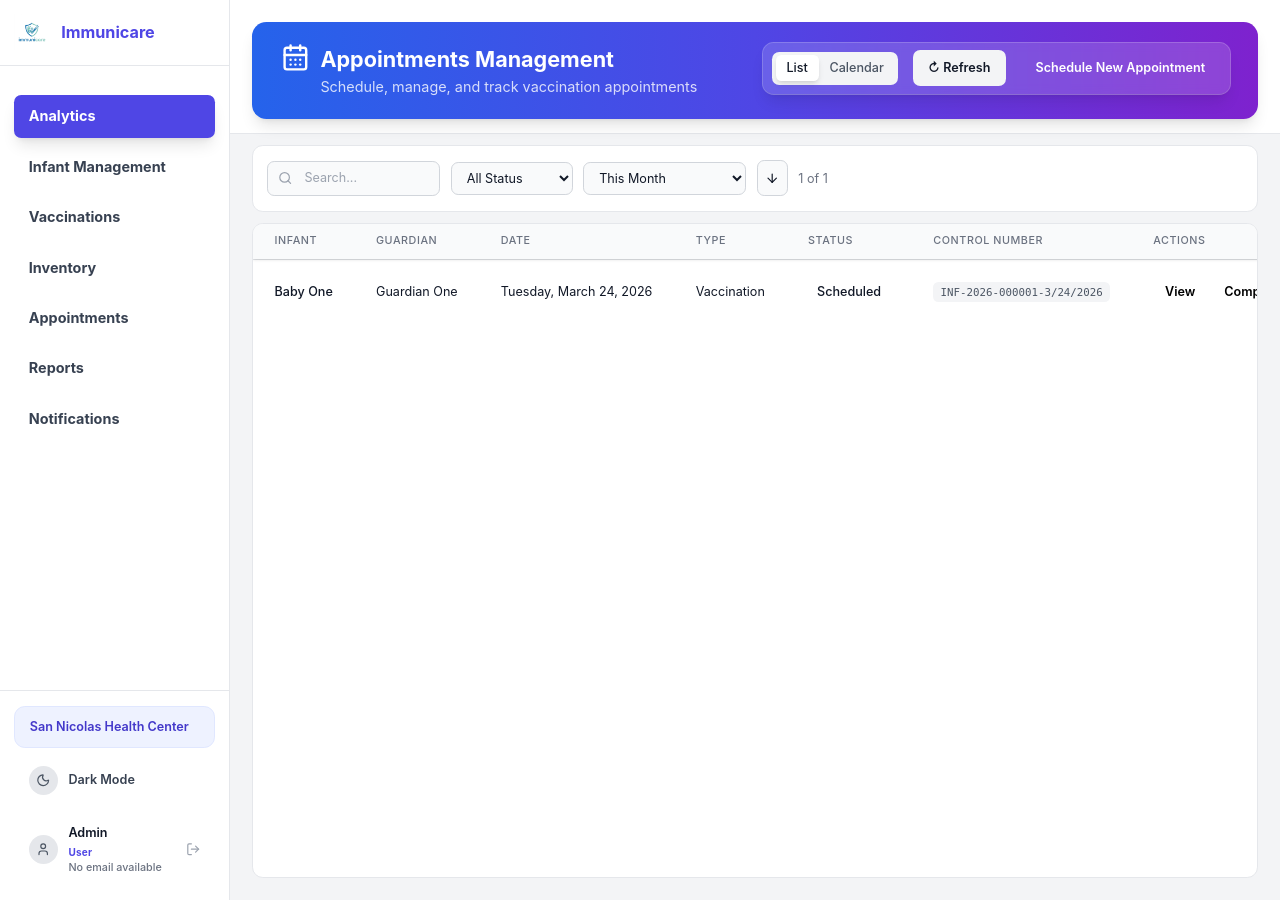
Scenario: admin appointments calendar scroll layout › calendar view uses an internal scroll region instead of locking the full page height
Click the button "Calendar" at x=857, y=68, box [819,55,895,81]
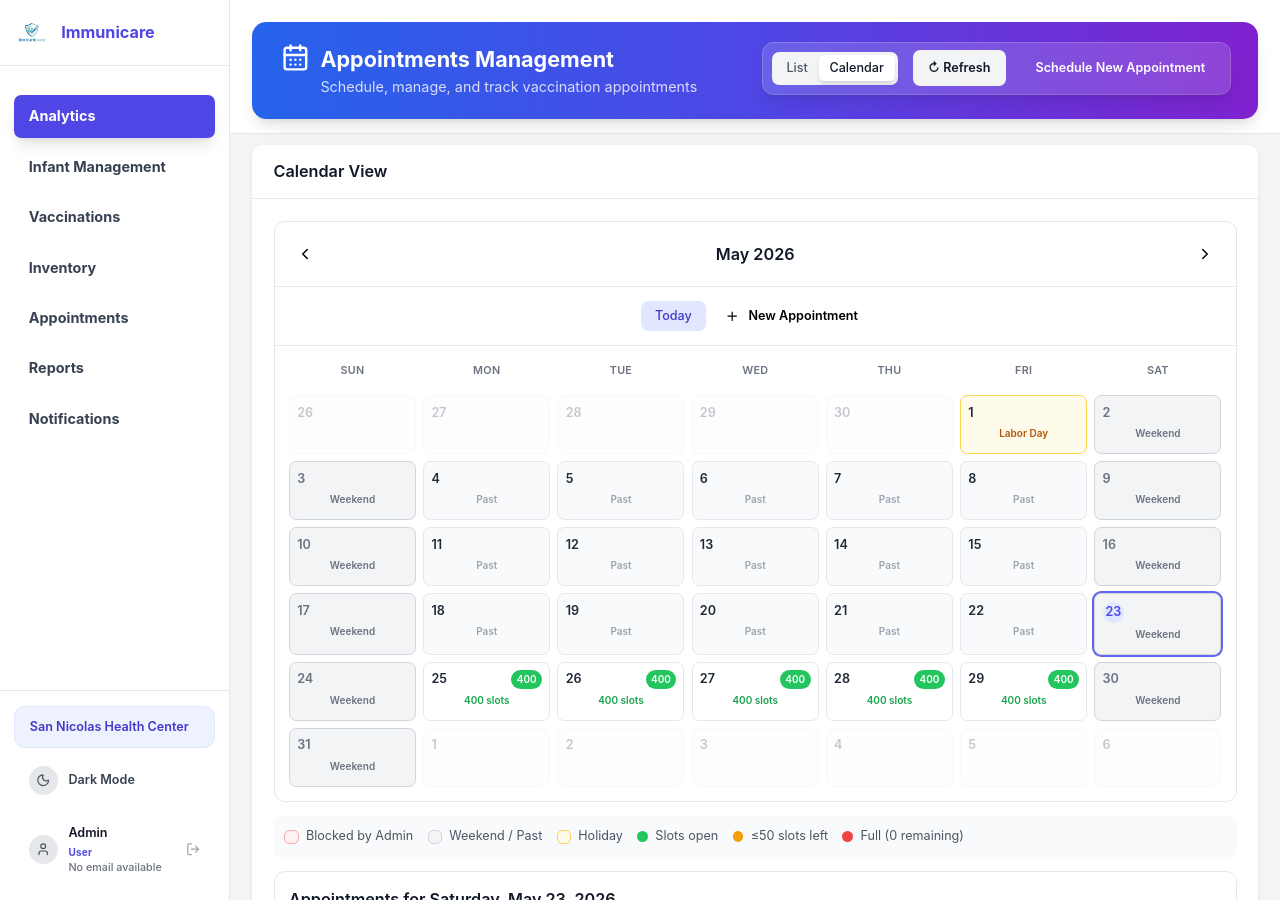
Expected: the heading "Calendar View" is shown, [274,161,387,181]
Expected: the element with test id "admin-appointments-calendar-scroll-region" is shown
